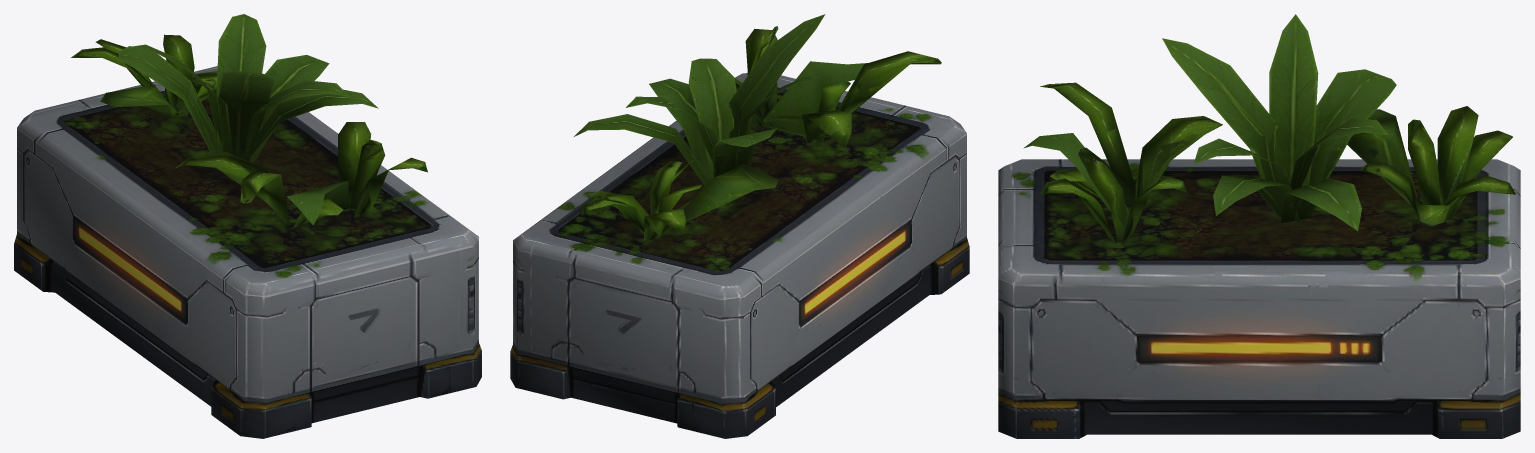
Rendered from planter_01.glb.
3 views of the same model, side by side, from view 1: azimuth 30°, elevation 25°; view 2: azimuth 150°, elevation 25°; view 3: azimuth 270°, elevation 25° (orthographic). The views are drawn at different scales.
Parts seen in each view (by area): view 1: tripo_node_ebad3a19-5ce0-4279-a4ab-6744708501bf; view 2: tripo_node_ebad3a19-5ce0-4279-a4ab-6744708501bf; view 3: tripo_node_ebad3a19-5ce0-4279-a4ab-6744708501bf.
Part boxes in pixels (bbox=[...]): tripo_node_ebad3a19-5ce0-4279-a4ab-6744708501bf: bbox=[14, 14, 481, 438]; tripo_node_ebad3a19-5ce0-4279-a4ab-6744708501bf: bbox=[510, 14, 969, 438]; tripo_node_ebad3a19-5ce0-4279-a4ab-6744708501bf: bbox=[998, 14, 1520, 438].
Bounding box in the file's own units: 0.5801 × 0.666 × 0.998.
1 material, 1 textured.
